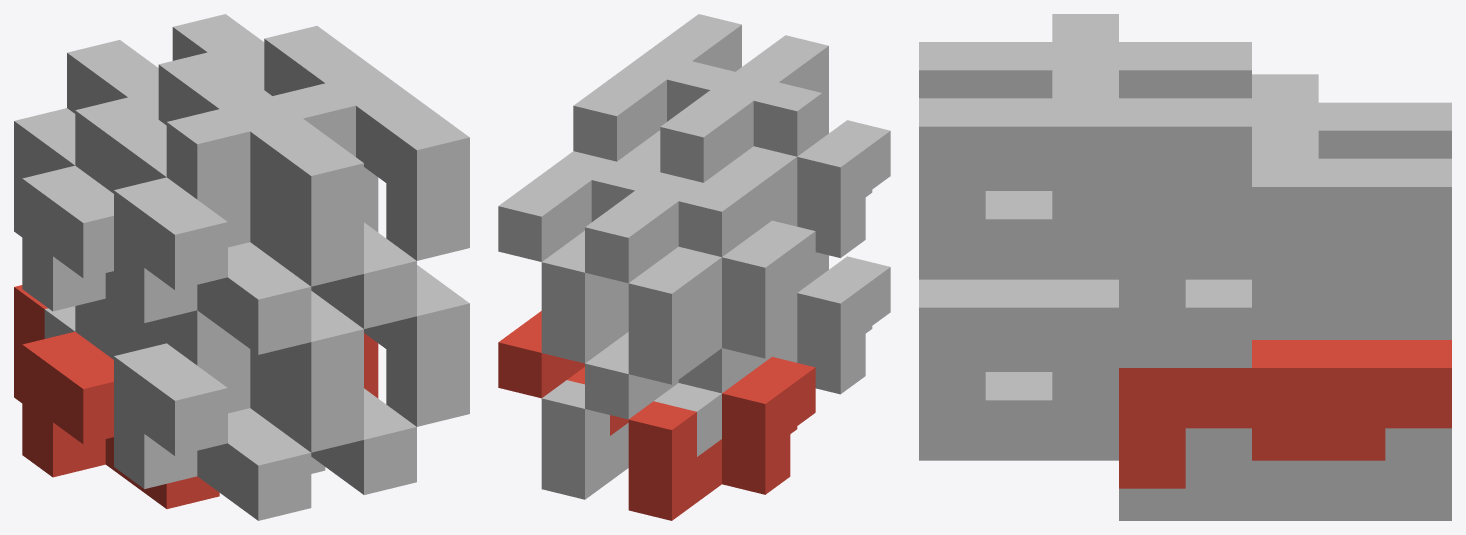
Rendered from tiling.obj.
The picture shows the model from 3 angles, left to right: view 1: azimuth 30°, elevation 25°; view 2: azimuth 150°, elevation 25°; view 3: azimuth 270°, elevation 25°; orthographic projection. The views are drawn at different scales.
Parts seen in each view (by area): view 1: copy_2_domain_4, copy_1_domain_4, copy_2_domain_8, copy_1_domain_2, copy_2_domain_2, copy_1_domain_3, copy_1_domain_1, copy_2_domain_6, copy_2_domain_3, copy_1_domain_6, copy_1_domain_8, copy_2_domain_7 (+2 smaller); view 2: copy_1_domain_3, copy_1_domain_1, copy_2_domain_4, copy_2_domain_3, copy_2_domain_8, copy_1_domain_4, copy_2_domain_7, copy_1_domain_2, copy_2_domain_1, copy_1_domain_7, copy_1_domain_5, copy_2_domain_5 (+2 smaller); view 3: copy_2_domain_8, copy_2_domain_7, copy_2_domain_5, copy_2_domain_6, copy_1_domain_5, copy_2_domain_4, copy_1_domain_6, copy_1_domain_8, copy_1_domain_7, copy_2_domain_3.
Boxes of the visible parts, left/top/right/bottom form: copy_2_domain_4: left=136, top=51, right=363, bottom=286; copy_1_domain_4: left=105, top=120, right=311, bottom=354; copy_2_domain_8: left=264, top=26, right=469, bottom=260; copy_1_domain_2: left=105, top=299, right=311, bottom=520; copy_2_domain_2: left=136, top=291, right=363, bottom=452; copy_1_domain_3: left=14, top=108, right=166, bottom=342; copy_1_domain_1: left=14, top=285, right=219, bottom=508; copy_2_domain_6: left=364, top=265, right=469, bottom=426; copy_2_domain_3: left=44, top=40, right=158, bottom=187; copy_1_domain_6: left=250, top=353, right=416, bottom=494; copy_1_domain_8: left=250, top=187, right=416, bottom=328; copy_2_domain_7: left=172, top=14, right=378, bottom=232; copy_1_domain_3: left=628, top=220, right=815, bottom=384; copy_1_domain_1: left=628, top=357, right=815, bottom=520; copy_2_domain_4: left=660, top=35, right=828, bottom=220; copy_2_domain_3: left=585, top=172, right=746, bottom=320; copy_2_domain_8: left=573, top=14, right=741, bottom=161; copy_1_domain_4: left=704, top=120, right=890, bottom=257; copy_2_domain_7: left=498, top=151, right=659, bottom=299; copy_1_domain_2: left=747, top=256, right=890, bottom=394; copy_2_domain_1: left=585, top=332, right=746, bottom=456; copy_1_domain_7: left=541, top=244, right=628, bottom=363; copy_1_domain_5: left=541, top=380, right=628, bottom=499; copy_2_domain_5: left=498, top=311, right=628, bottom=435; copy_2_domain_8: left=919, top=70, right=1251, bottom=247; copy_2_domain_7: left=1119, top=130, right=1451, bottom=307; copy_2_domain_5: left=1119, top=340, right=1451, bottom=488; copy_2_domain_6: left=919, top=279, right=1251, bottom=428; copy_1_domain_5: left=1119, top=428, right=1451, bottom=520; copy_2_domain_4: left=919, top=14, right=1251, bottom=98; copy_1_domain_6: left=919, top=368, right=1251, bottom=460; copy_1_domain_8: left=919, top=187, right=1251, bottom=279; copy_1_domain_7: left=1252, top=247, right=1451, bottom=339; copy_2_domain_3: left=1252, top=74, right=1451, bottom=158.
Bounding box in the file's own units: 5 × 7 × 8.
